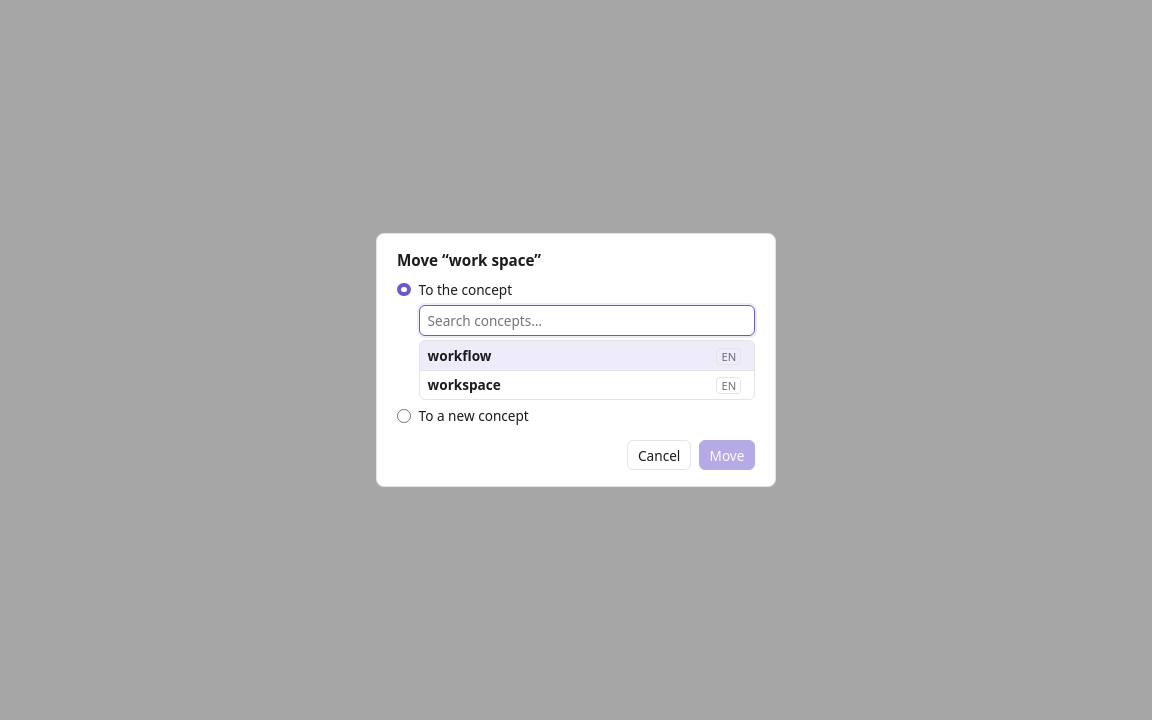
MoveDialog › selects "To the concept" on opening and keeps Move unavailable until a target is picked
Check: the heading "Move “work space”" is shown, box [397,250,541,270]
Check: the element showing "To the concept workflow EN workspace EN To a new concept" is shown, box [397,280,755,426]
Click the option "workspace EN" at (464, 385), box [420,370,754,399]
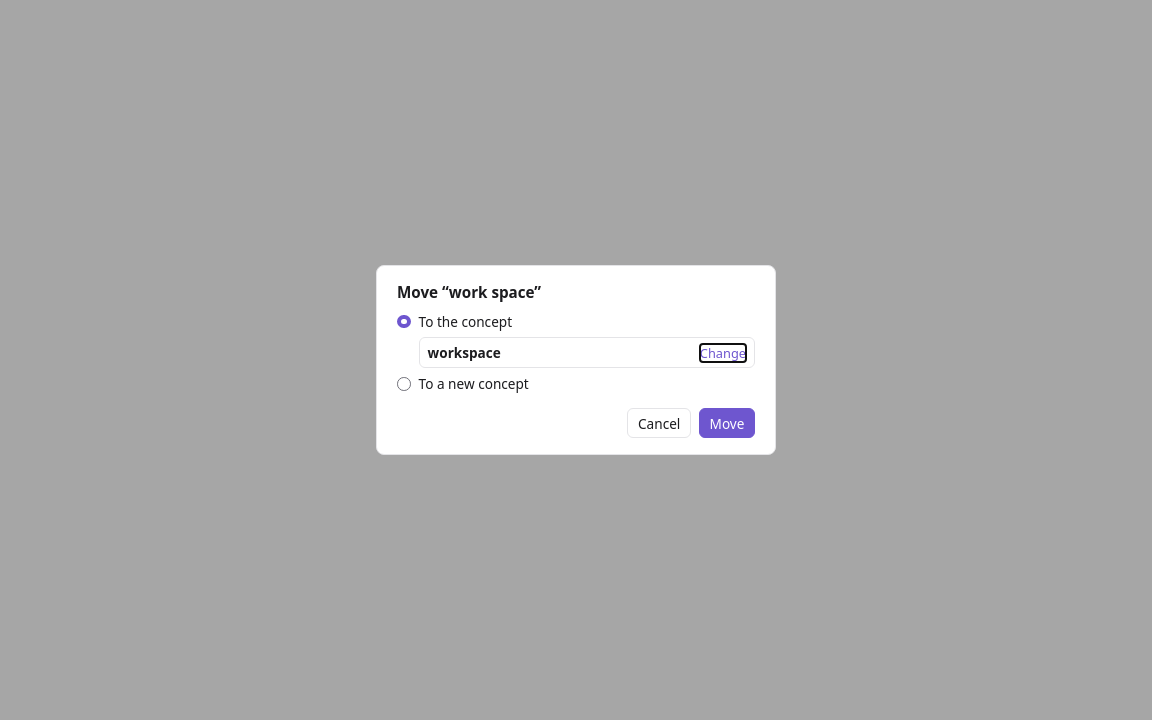
Check: the button "Move" is enabled, box [699,408,755,438]
